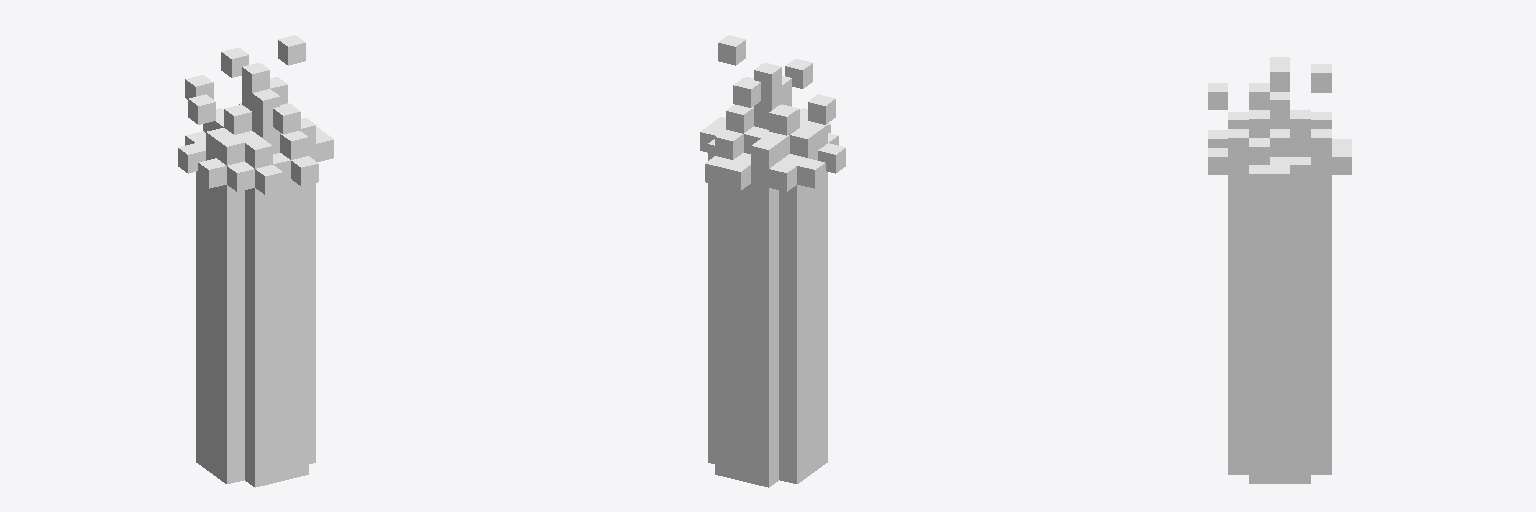
The model's file is facel.obj.
3 renders of one model, left to right at view 1: azimuth 30°, elevation 25°; view 2: azimuth 150°, elevation 25°; view 3: azimuth 270°, elevation 25°, orthographic.
Visible parts, largest first — view 1: facel; view 2: facel; view 3: facel.
Part boxes in pixels (x1,y1,x2,y2): facel: (178,35,333,487); facel: (700,35,845,487); facel: (1208,57,1351,483).
Size of the model in its own units: 7 by 22 by 7.